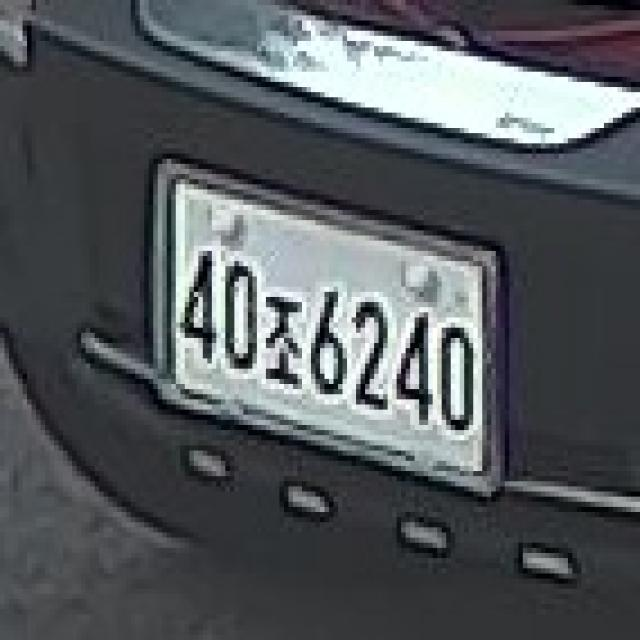0: (221, 256, 266, 369), (437, 323, 478, 430)
2: (347, 292, 392, 415)
4: (388, 302, 437, 425), (176, 245, 221, 364)
6: (311, 287, 352, 394)
jo: (262, 292, 306, 389)
license_plate: (149, 158, 505, 492)
